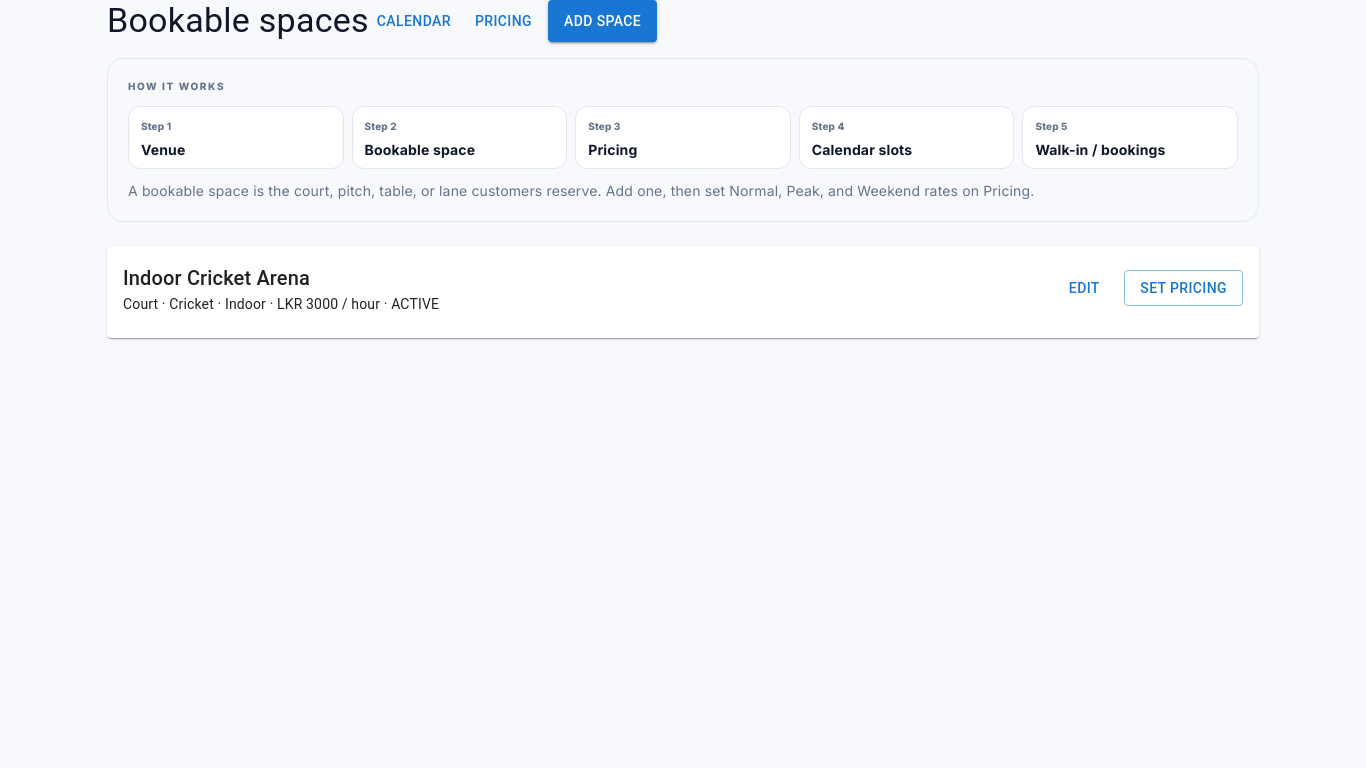
Test case: OwnerCourtsPage facility handling › blocks creating a court without a facility and prompts the owner
This screenshot has width=1366, height=768.
Click the button "Add space" at (603, 21), box x1=548 y1=0 x2=657 y2=42
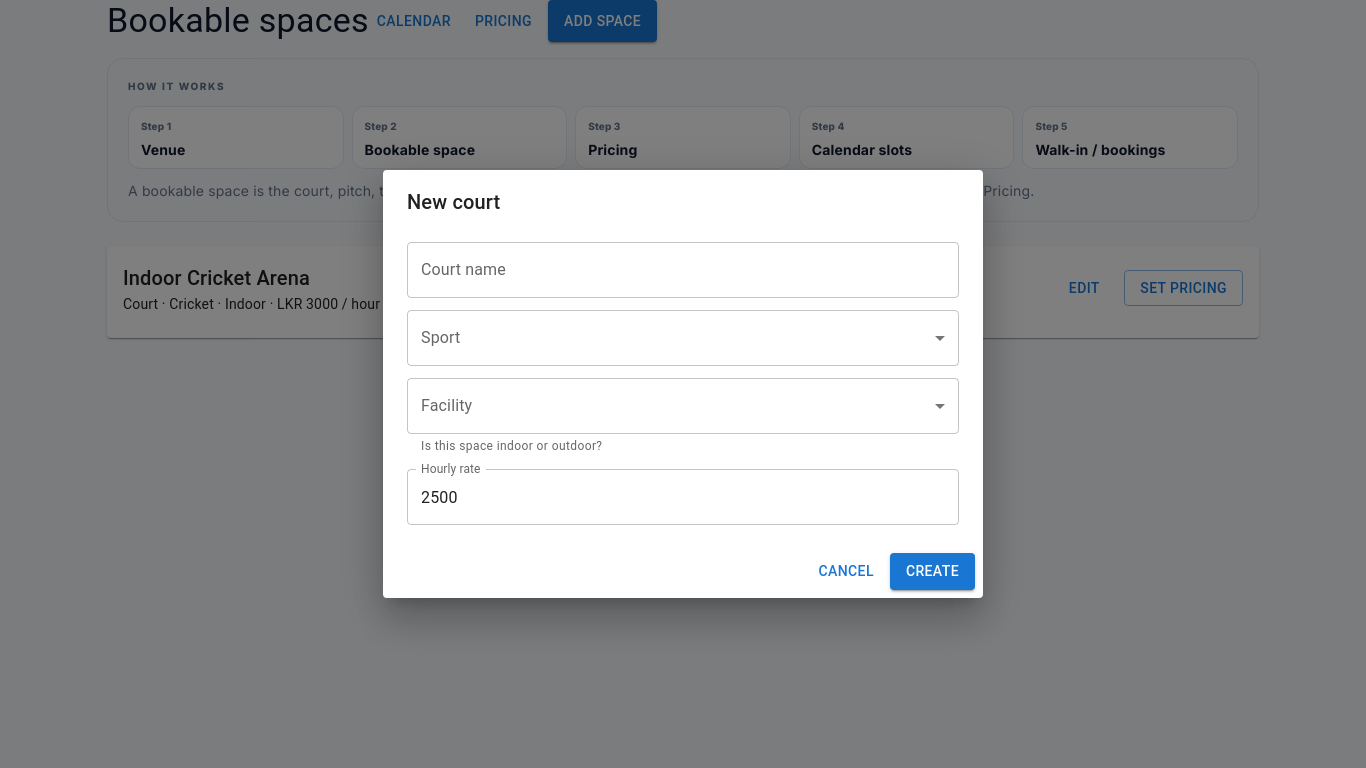
Click the button "Create" at (932, 571), box x1=890 y1=553 x2=975 y2=590
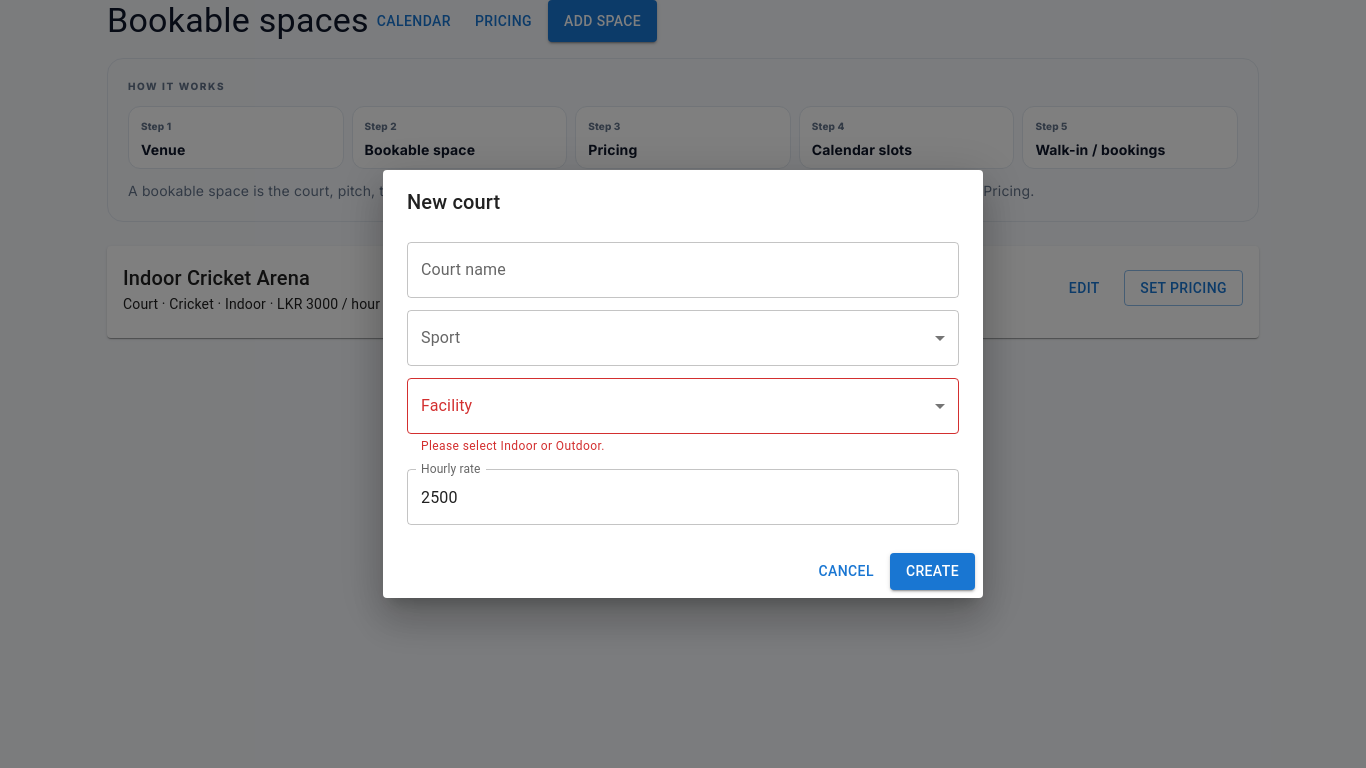
Expected: the text "Please select Indoor or Outdoor." is shown, x1=421 y1=439 x2=605 y2=453
